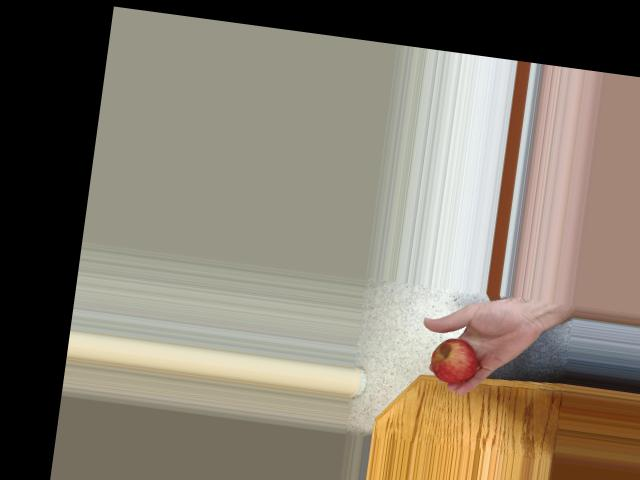apple: (427, 331, 487, 386)
